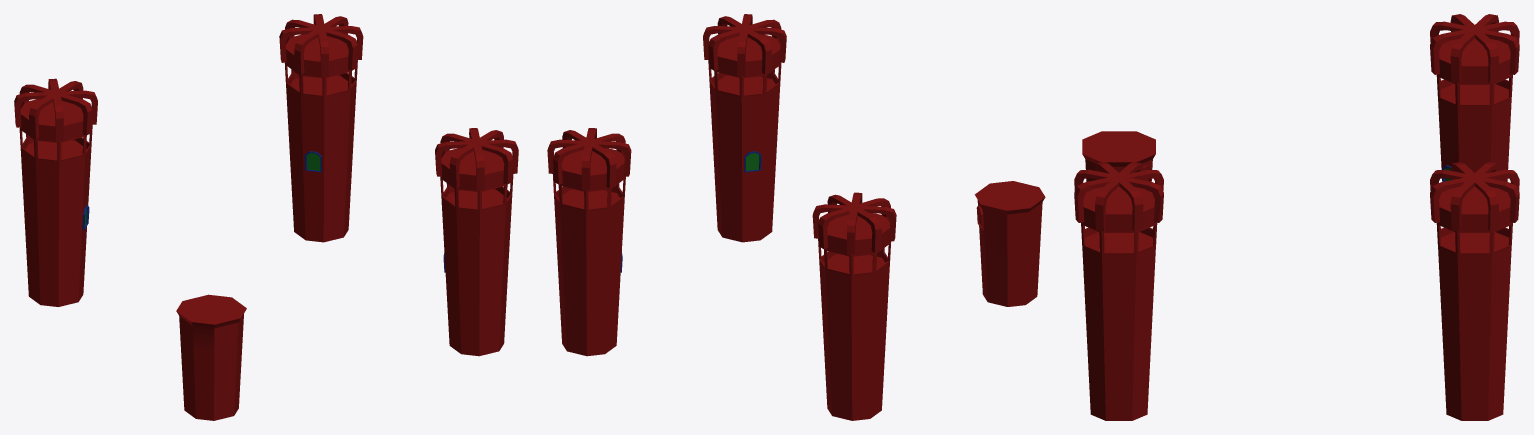
The model's file is SM_Turret 1.fbx.
3 views of the same model, side by side, from view 1: azimuth 30°, elevation 25°; view 2: azimuth 150°, elevation 25°; view 3: azimuth 270°, elevation 25° (orthographic). The views are drawn at different scales.
Visible parts, largest first — view 1: SM_Turret; view 2: SM_Turret; view 3: SM_Turret.
Boxes of the visible parts, <box> form: SM_Turret: <box>14,14,518,420</box>; SM_Turret: <box>547,14,1045,420</box>; SM_Turret: <box>1074,14,1519,420</box>.
Size of the model in its own units: 178 by 103 by 180.
